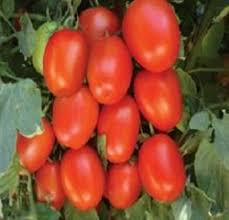tomato: (139, 133, 186, 203)
